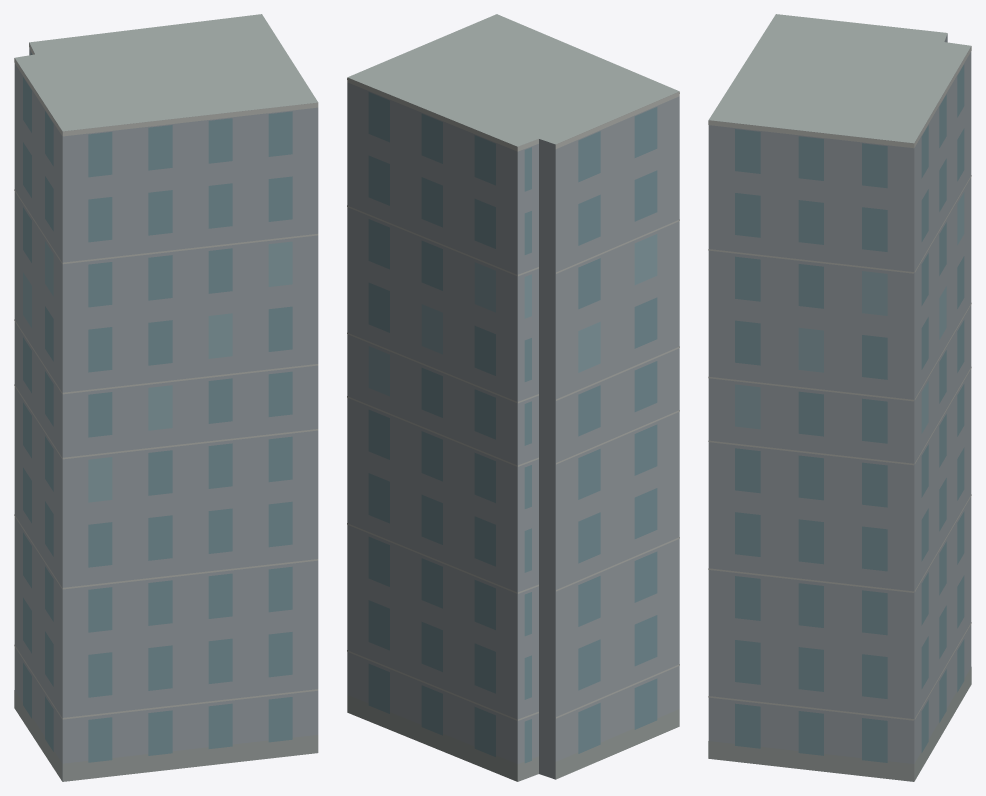
File: survey-upis-32710375.glb
3 renders of one model, left to right at view 1: azimuth 30°, elevation 25°; view 2: azimuth 150°, elevation 25°; view 3: azimuth 270°, elevation 25°, orthographic. The views are drawn at different scales.
Visible parts, largest first — view 1: survey-upis-32710375.tmp; view 2: survey-upis-32710375.tmp; view 3: survey-upis-32710375.tmp.
Boxes of the visible parts, x1,y1,x2,y2 form: survey-upis-32710375.tmp: [14, 14, 318, 781]; survey-upis-32710375.tmp: [347, 14, 679, 781]; survey-upis-32710375.tmp: [708, 14, 971, 781].
Size of the model in its own units: 13.66 by 31.4 by 11.75.
